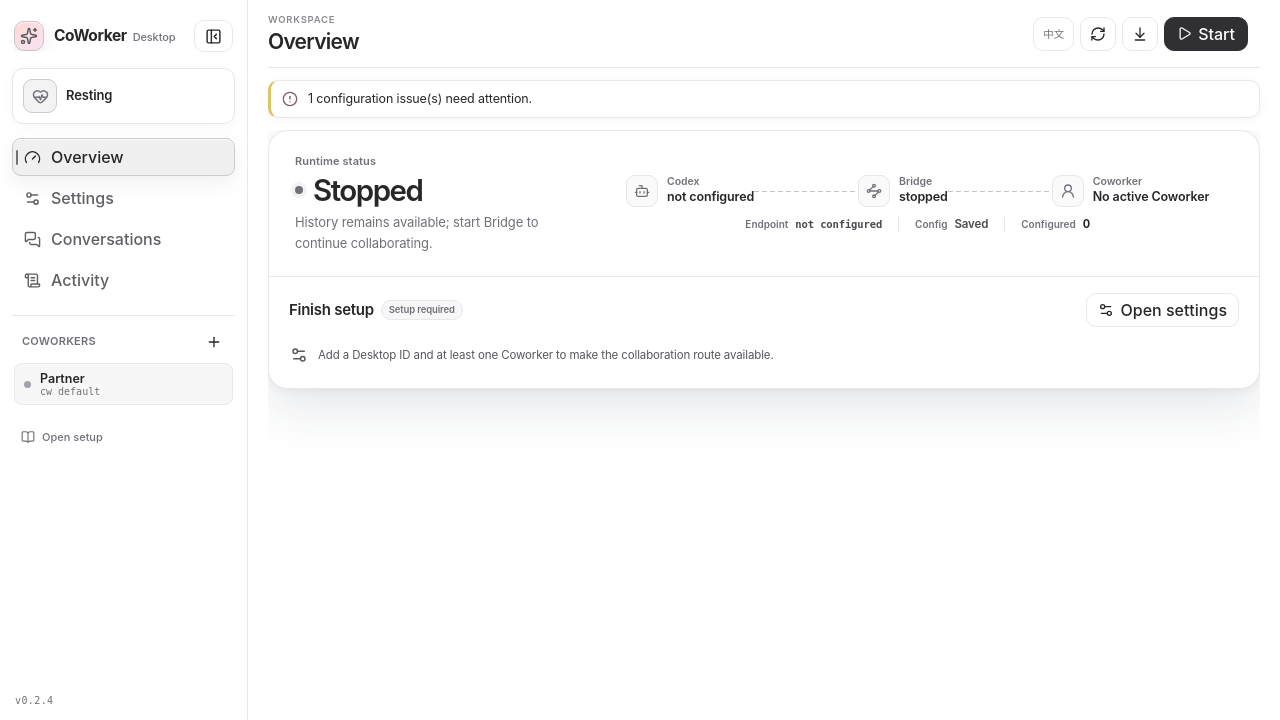
App backend operation wiring › guides an unconfigured runtime to settings without rendering an empty actor panel
Expected: the heading "Finish setup" is shown, [289,301,374,319]
Click the button "Open settings": (1162, 310) [1086,293,1239,327]
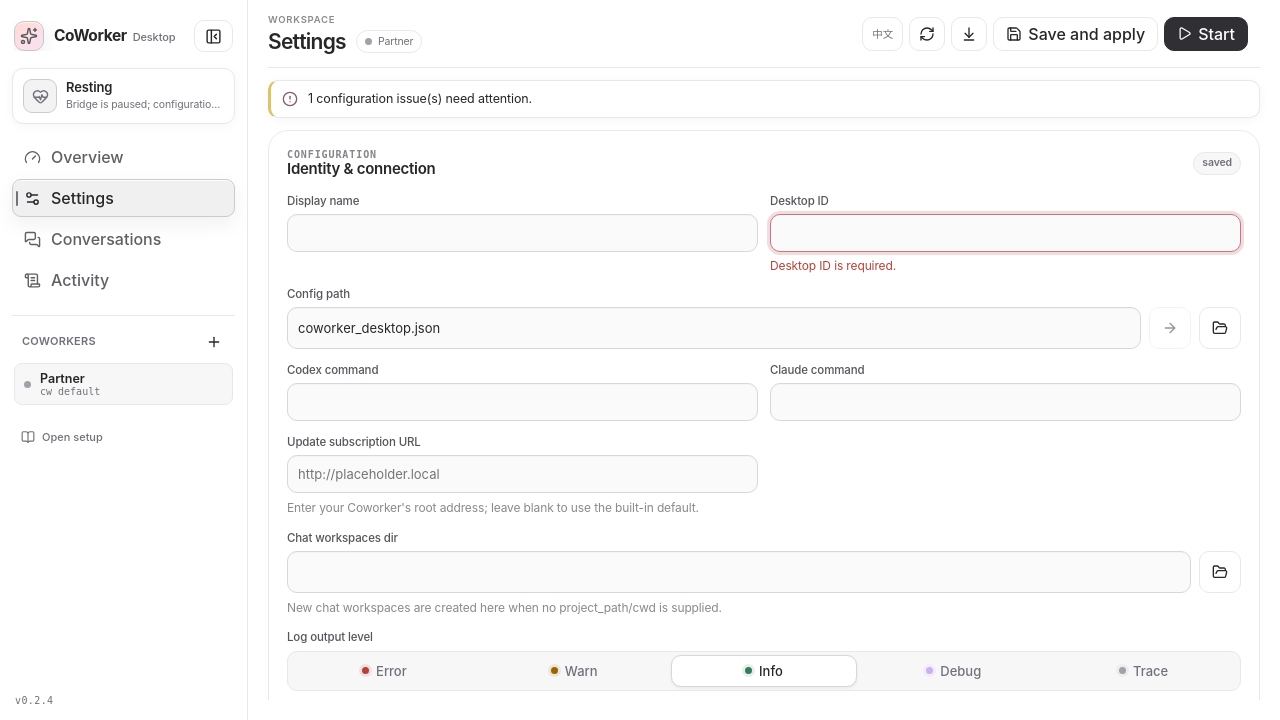
Expected: the field with id "config-path" is shown, [287,307,1141,349]
